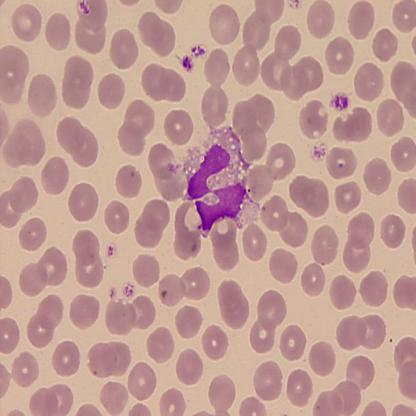Eosinophil: (179, 123, 246, 239)
